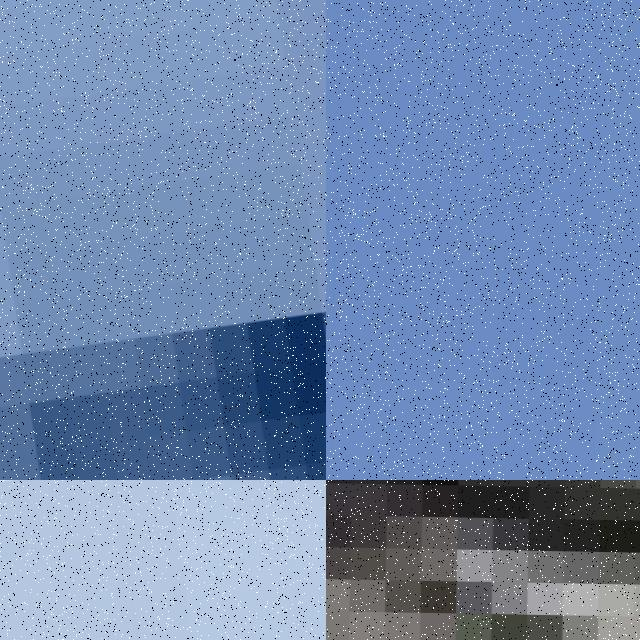drone: (0, 0, 326, 480), (0, 480, 326, 640)
